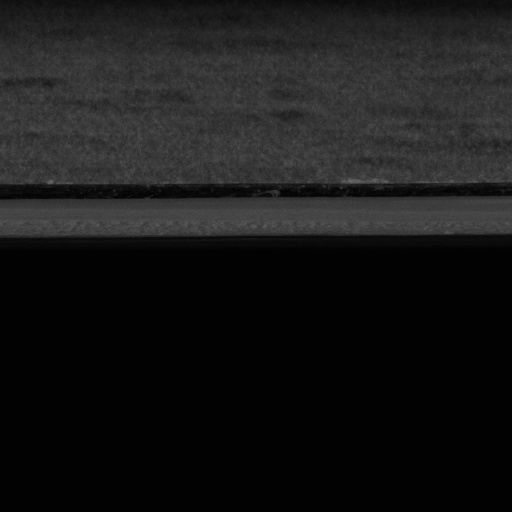kaijiao: (0, 181, 511, 240)
